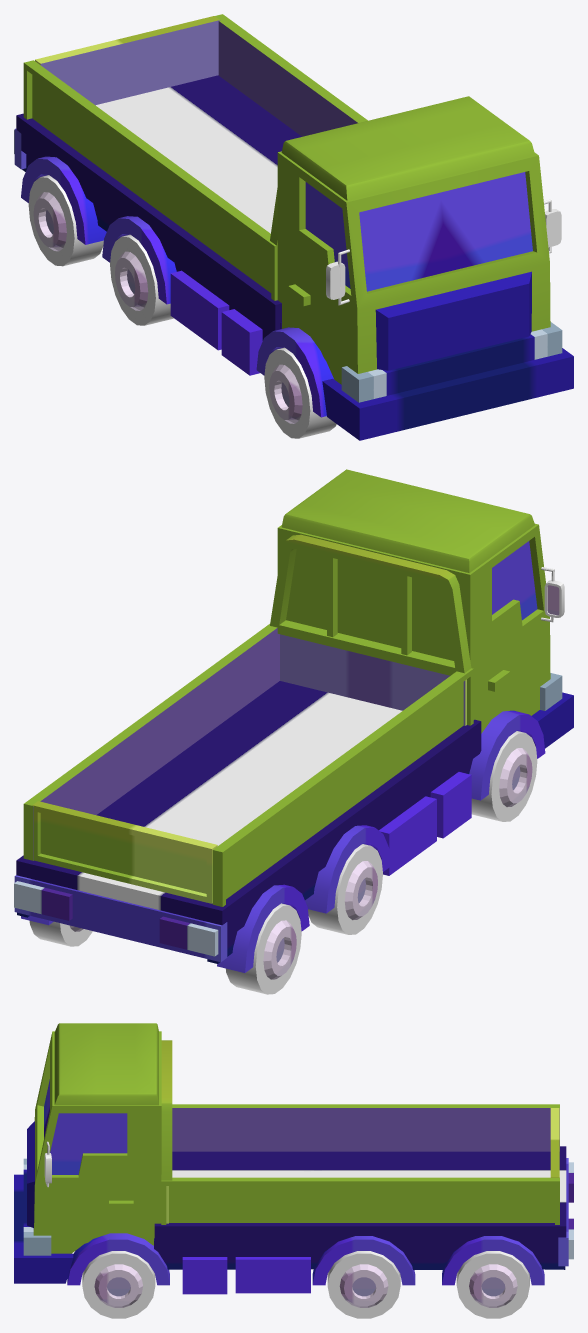
File: Purple_Middle_Truck.fbx
3 views of the same model, one above another, from view 1: azimuth 30°, elevation 25°; view 2: azimuth 150°, elevation 25°; view 3: azimuth 270°, elevation 25° (orthographic). The views are drawn at different scales.
Parts seen in each view (by area): view 1: Purple_Middle_Truck, Middle_Truck_Back_Door; view 2: Purple_Middle_Truck, Middle_Truck_Back_Door; view 3: Purple_Middle_Truck, Middle_Truck_Back_Door.
Boxes of the visible parts, left/top/right/bottom form: Purple_Middle_Truck: left=14, top=14, right=573, bottom=440; Middle_Truck_Back_Door: left=35, top=16, right=220, bottom=105; Purple_Middle_Truck: left=14, top=469, right=573, bottom=994; Middle_Truck_Back_Door: left=32, top=801, right=217, bottom=903; Purple_Middle_Truck: left=14, top=1023, right=573, bottom=1318; Middle_Truck_Back_Door: left=550, top=1108, right=559, bottom=1177.
Bounding box in the file's own units: 222 × 243 × 570.
